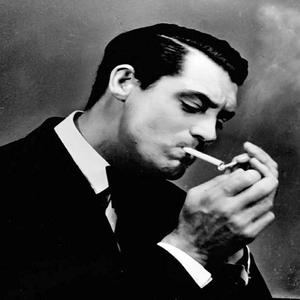cigarette: (181, 143, 231, 173)
